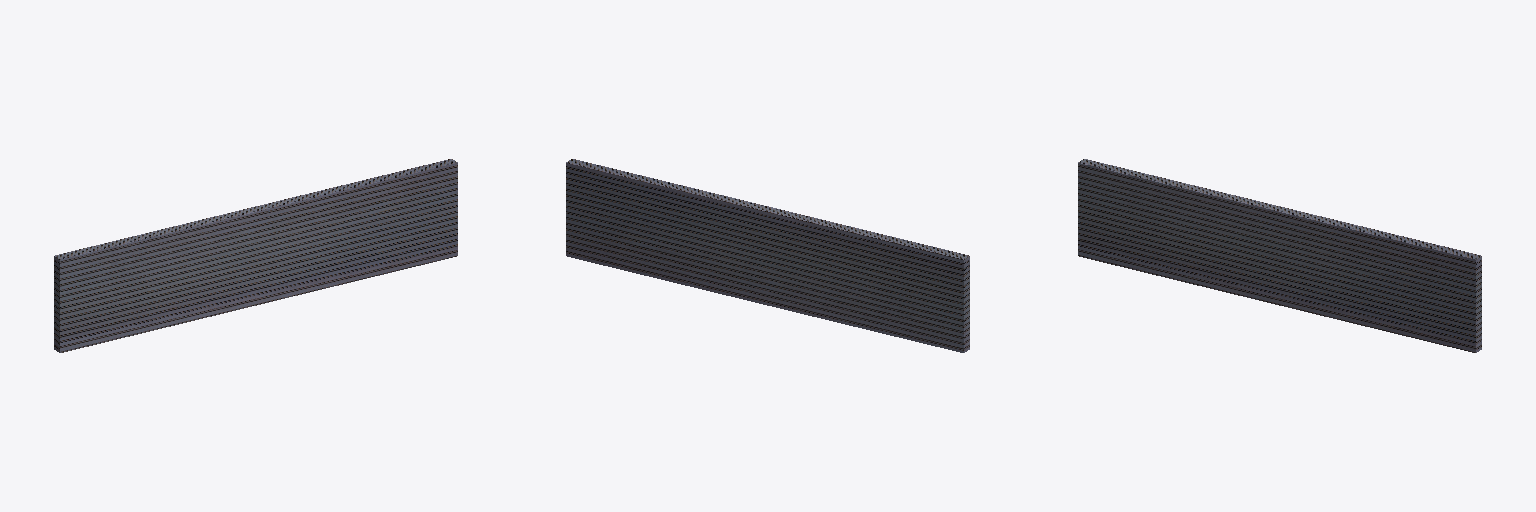
3 views of the same model, side by side, from view 1: azimuth 30°, elevation 25°; view 2: azimuth 150°, elevation 25°; view 3: azimuth 330°, elevation 25° (orthographic).
Parts seen in each view (by area): view 1: garage_door:pCube43; view 2: garage_door:pCube43; view 3: garage_door:pCube43.
Part boxes in pixels (bbox=[...]): garage_door:pCube43: bbox=[54, 159, 457, 352]; garage_door:pCube43: bbox=[566, 159, 969, 352]; garage_door:pCube43: bbox=[1078, 159, 1481, 352].
Size of the model in its own units: 400 by 90 by 10.
1 materials, 1 textured.